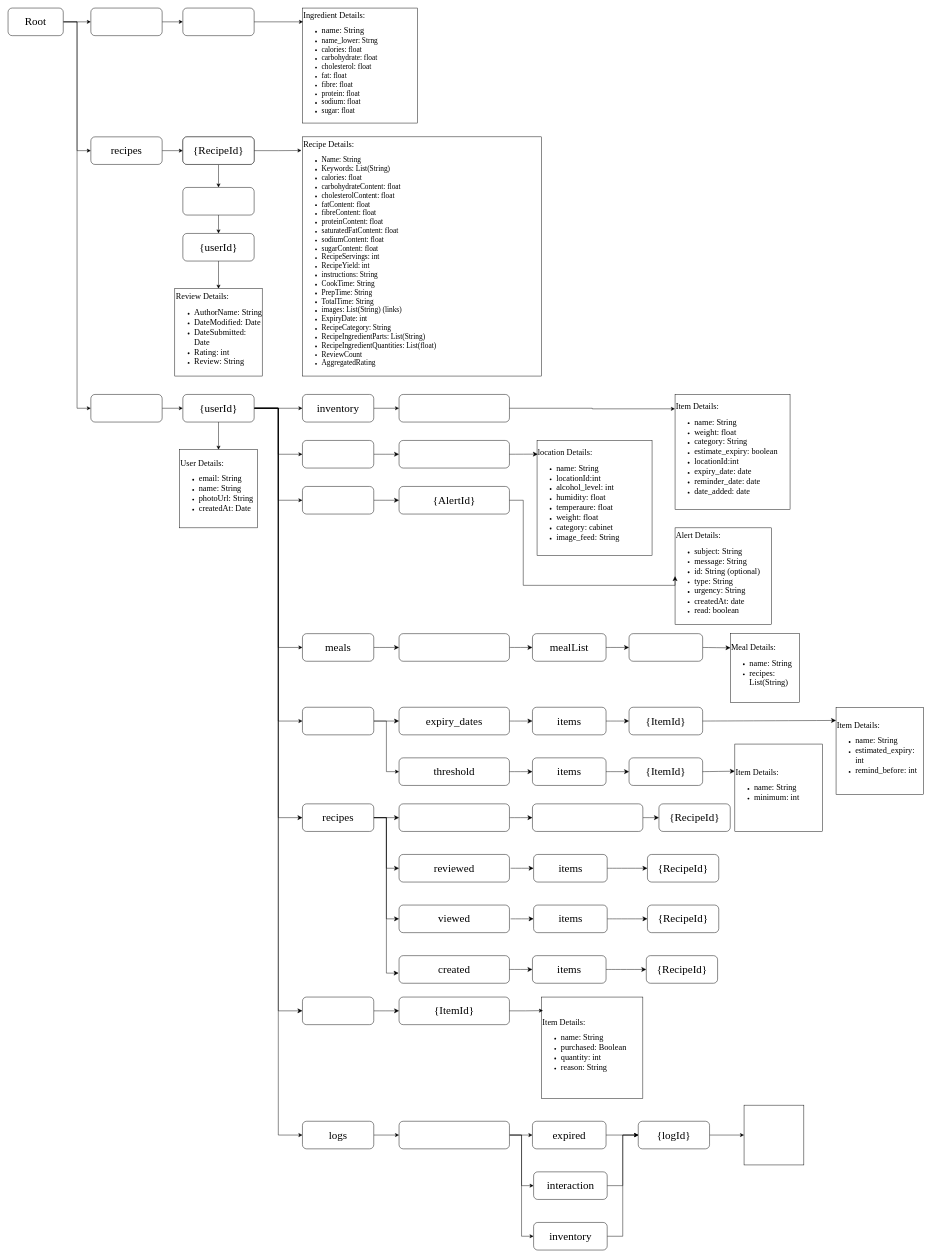
Image size: 932x1258. Some labels were removed from this diagram. The shapes that lost their labels are listed below. From the top down, each one's box as (x1, y1, x2, y2) in pixels, then its label:
(90, 8, 162, 36): ingredients_list
(182, 8, 254, 36): {ingredientId}
(182, 187, 254, 215): reviews
(90, 394, 162, 422): users
(399, 394, 509, 422): {ItemId}_{locationId}
(302, 440, 374, 468): locations
(399, 440, 509, 468): {locationId}
(302, 486, 374, 514): alerts
(399, 633, 509, 661): Day (Sunday, etc)
(629, 633, 703, 661): {mealId}
(302, 707, 374, 735): preferences
(399, 803, 509, 831): saved
(532, 803, 643, 831): {collectionId}
(302, 997, 374, 1025): shopping_list
(399, 1121, 509, 1149): itemList
(744, 1105, 804, 1165): Log Details: date: date message: string
